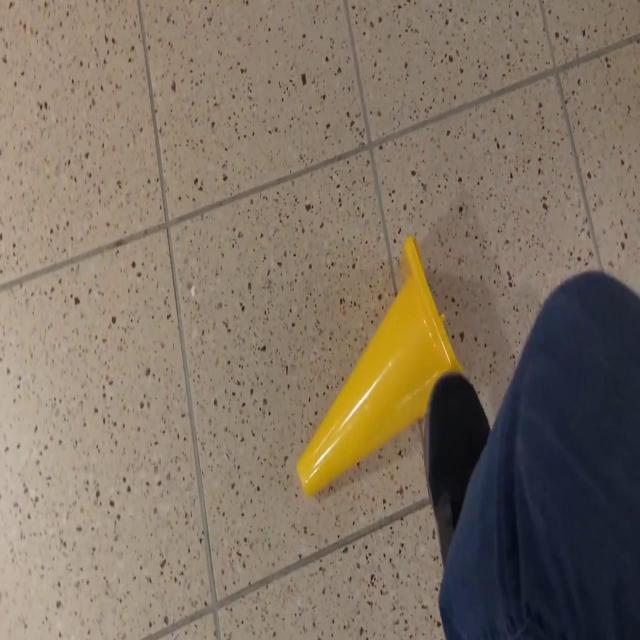frc_cone: (296, 236, 460, 496)
